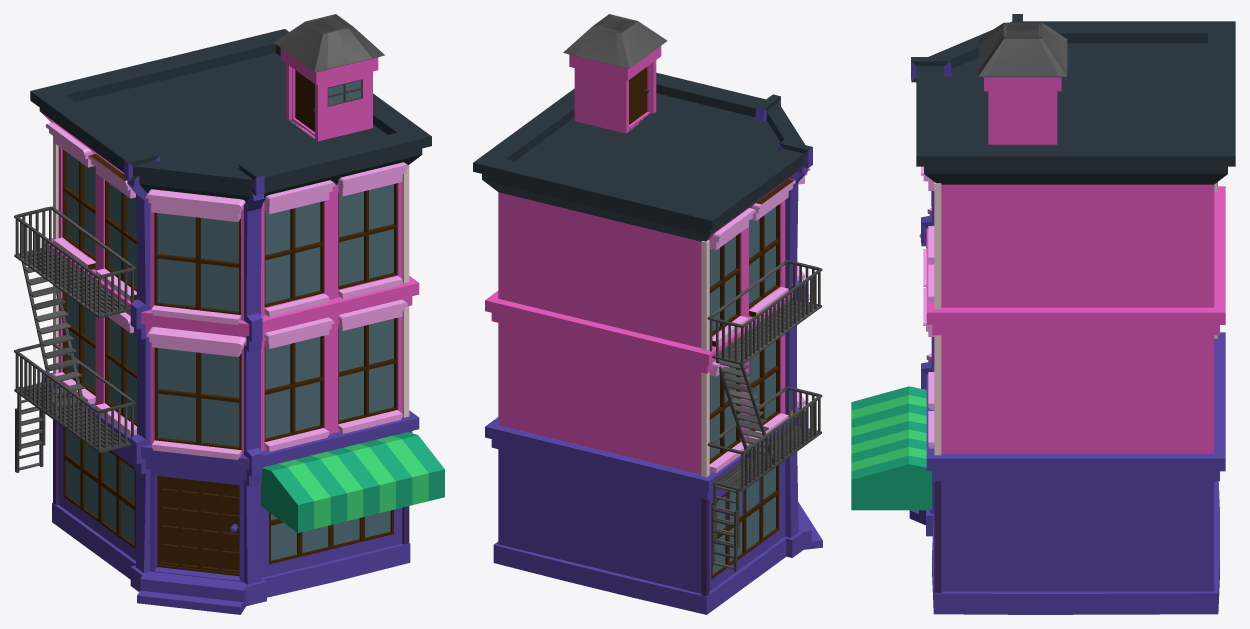
File: Corner_Building_Pink.fbx
3 renders of one model, left to right at view 1: azimuth 30°, elevation 25°; view 2: azimuth 150°, elevation 25°; view 3: azimuth 270°, elevation 25°, orthographic. The views are drawn at different scales.
Visible parts, largest first — view 1: Cube.003; view 2: Cube.003; view 3: Cube.003.
Part boxes in pixels (left/top/right/bottom): Cube.003: left=14, top=14, right=444, bottom=614; Cube.003: left=473, top=14, right=822, bottom=614; Cube.003: left=851, top=14, right=1235, bottom=614.
Size of the model in its own units: 1669 by 1522 by 2694.
